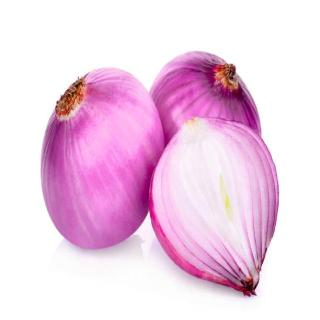Bawang Merah: (149, 115, 283, 299), (38, 66, 166, 254)
